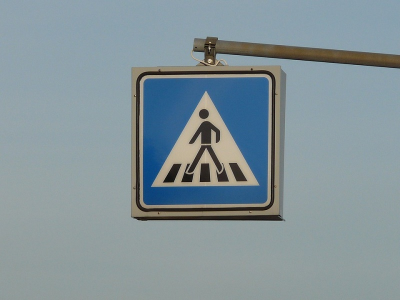crosswalk: (142, 80, 263, 199)
